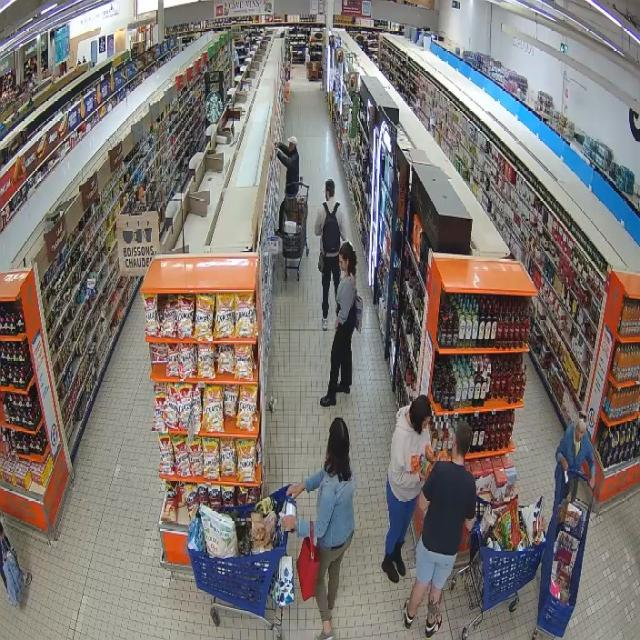article: (425, 443, 447, 463), (411, 453, 424, 474), (423, 459, 434, 475)
bags: (297, 522, 319, 601), (1, 538, 24, 606), (270, 556, 294, 606), (322, 203, 340, 254), (354, 294, 363, 333), (319, 249, 324, 273)
hands: (287, 483, 305, 497), (282, 516, 296, 531), (560, 457, 568, 472), (589, 476, 594, 490), (420, 472, 426, 483), (335, 318, 339, 328), (274, 143, 279, 149)
person: (403, 422, 476, 637), (288, 418, 355, 639), (382, 395, 431, 583), (320, 242, 357, 407), (315, 179, 347, 330), (556, 412, 595, 488), (277, 136, 299, 196), (0, 524, 10, 588)
